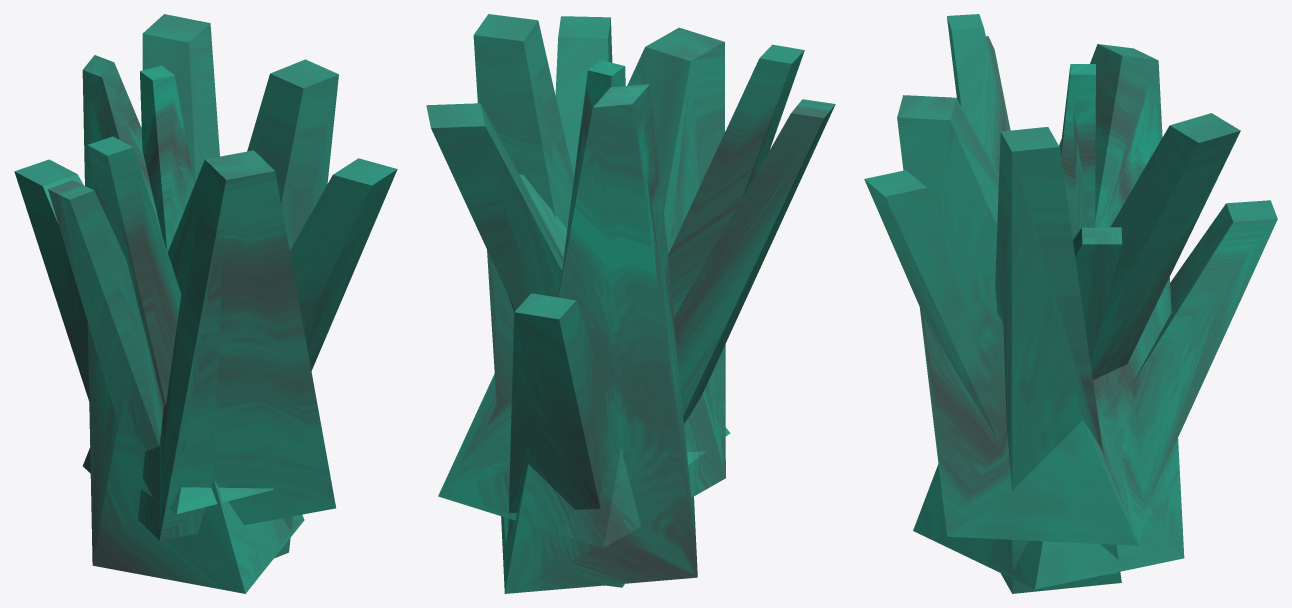
The model's file is crystal_1.fbx.
3 views of the same model, side by side, from view 1: azimuth 30°, elevation 25°; view 2: azimuth 150°, elevation 25°; view 3: azimuth 270°, elevation 25° (orthographic). The views are drawn at different scales.
Visible parts, largest first — view 1: Cube.007; view 2: Cube.007; view 3: Cube.007.
Boxes of the visible parts, x1,y1,x2,y2 form: Cube.007: (14,14,397,593); Cube.007: (426,14,835,593); Cube.007: (864,14,1277,593).
Size of the model in its own units: 0.9839 by 1.49 by 1.16.
